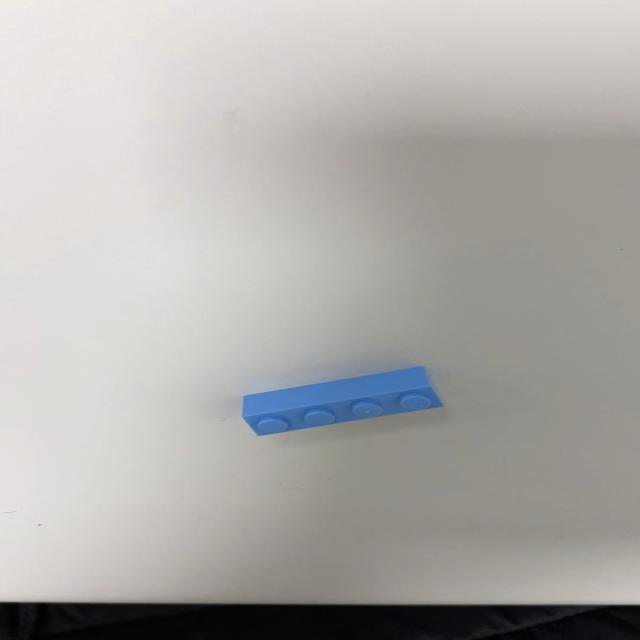C4x1x1: (238, 365, 444, 438)
